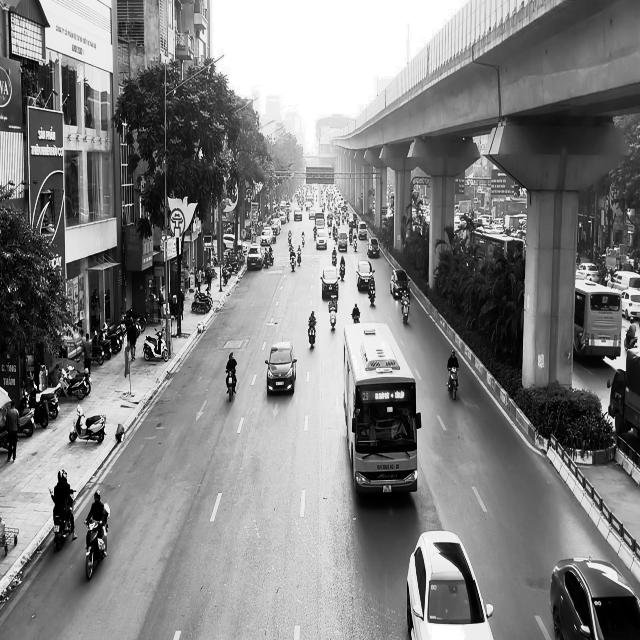bus: (342, 322, 421, 496), (573, 276, 622, 360)
car: (406, 530, 494, 639), (549, 556, 640, 639), (265, 340, 297, 395), (320, 265, 339, 299), (390, 268, 410, 298), (356, 260, 374, 290), (366, 237, 380, 258)
motorbike: (48, 486, 76, 550), (83, 519, 108, 580), (69, 404, 106, 443), (142, 328, 169, 362), (447, 366, 458, 400), (225, 368, 236, 402), (400, 294, 410, 324), (368, 271, 375, 304), (308, 321, 316, 349)
